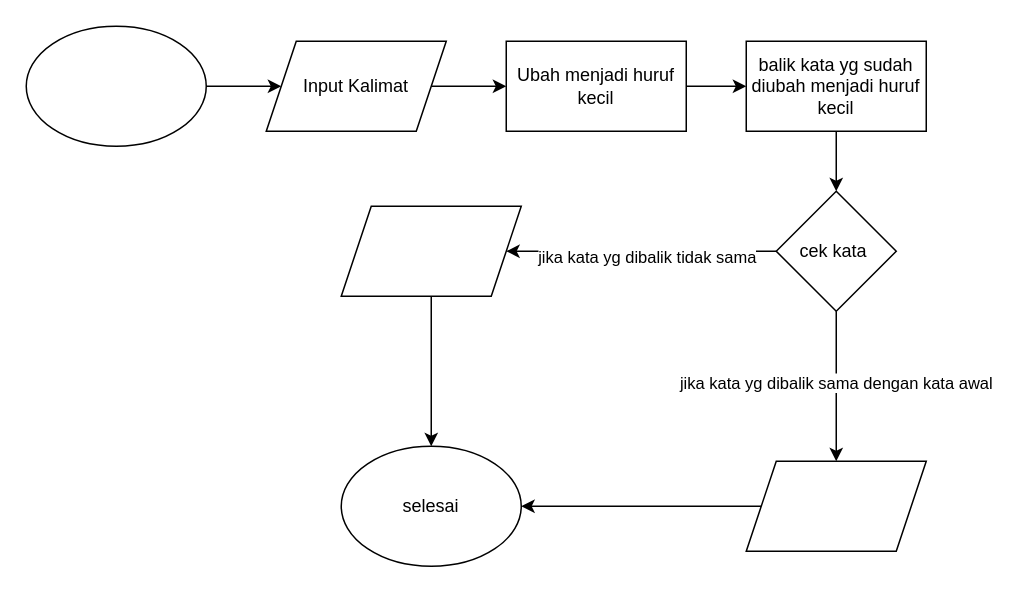
Image size: 1019x593. Some labels were removed from this diagram. The centre of each missing label's shape, as x and y in pixels:
cetak output "bukan palindrome": point (430, 250)
cetak output "kata ini palindrome": point (835, 505)
Mulai: point (115, 85)
